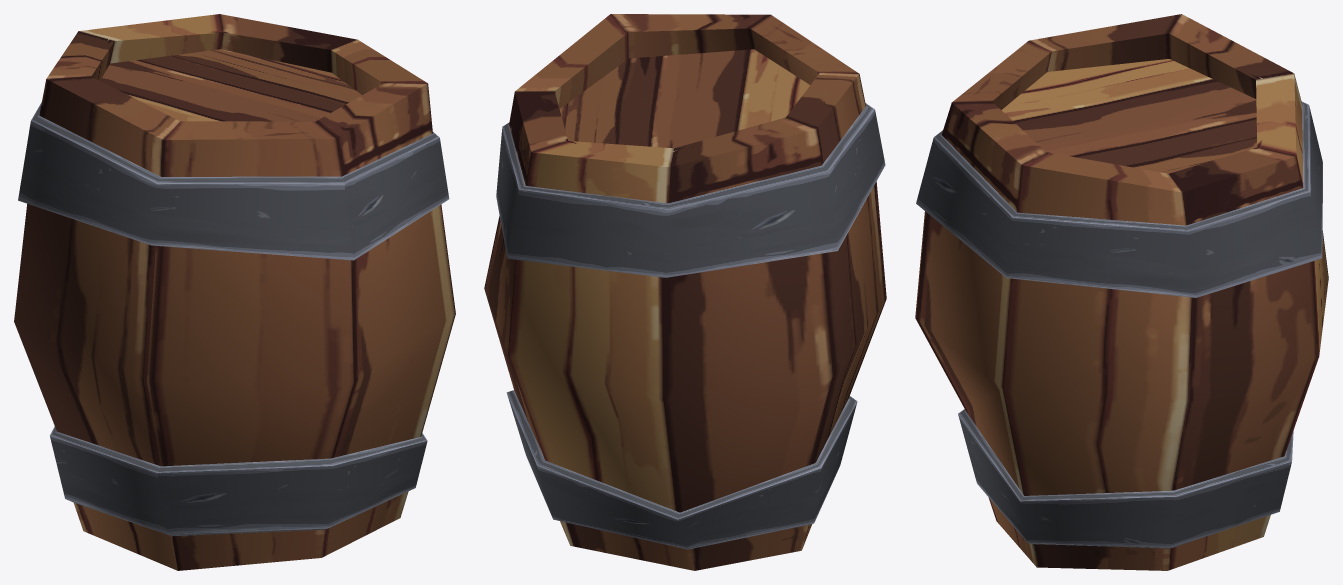
File: Barril_01.fbx
3 views of the same model, side by side, from view 1: azimuth 30°, elevation 25°; view 2: azimuth 150°, elevation 25°; view 3: azimuth 270°, elevation 25° (orthographic). The views are drawn at different scales.
Visible parts, largest first — view 1: Barril_01; view 2: Barril_01; view 3: Barril_01.
Part boxes in pixels (<box>): Barril_01: <box>14,14,455,570</box>; Barril_01: <box>484,14,886,570</box>; Barril_01: <box>915,14,1328,570</box>.
Size of the model in its own units: 74.97 by 89.29 by 77.16.
